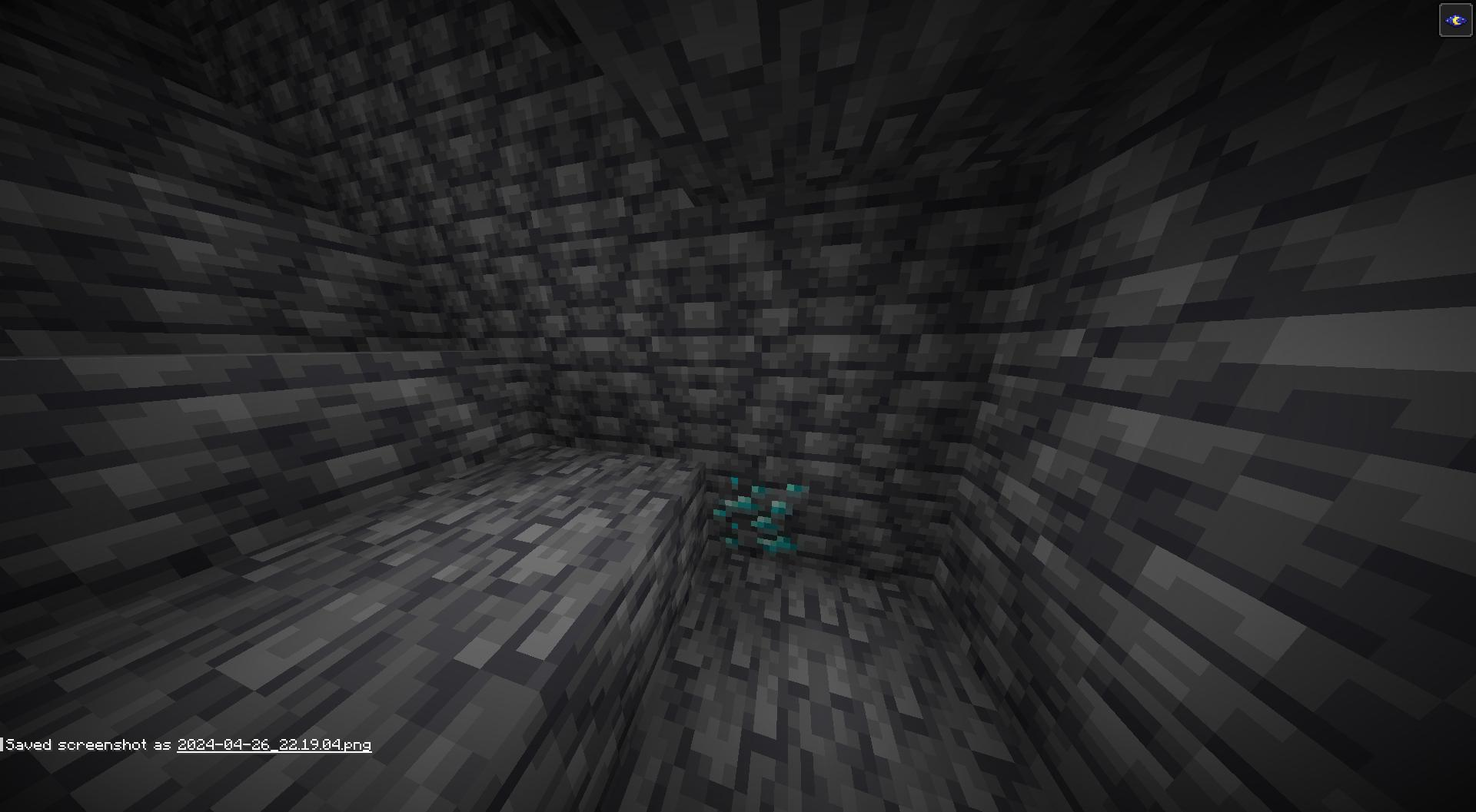diamond ore: (706, 474, 803, 555)
